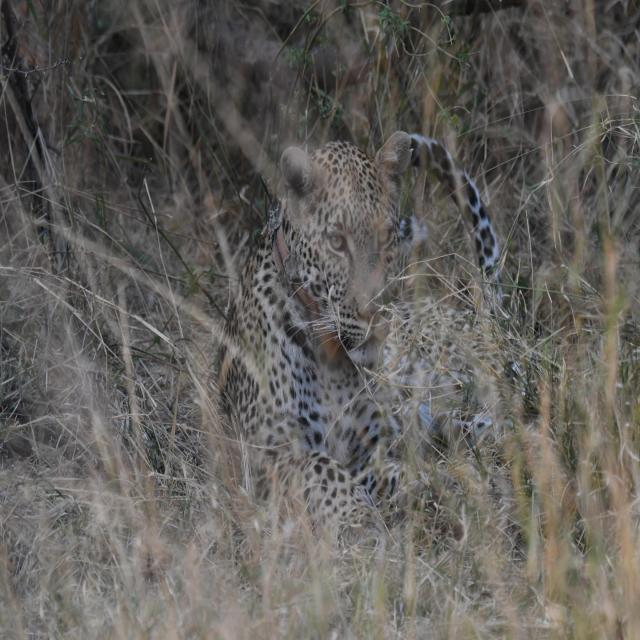Leopard: (232, 128, 478, 536)
